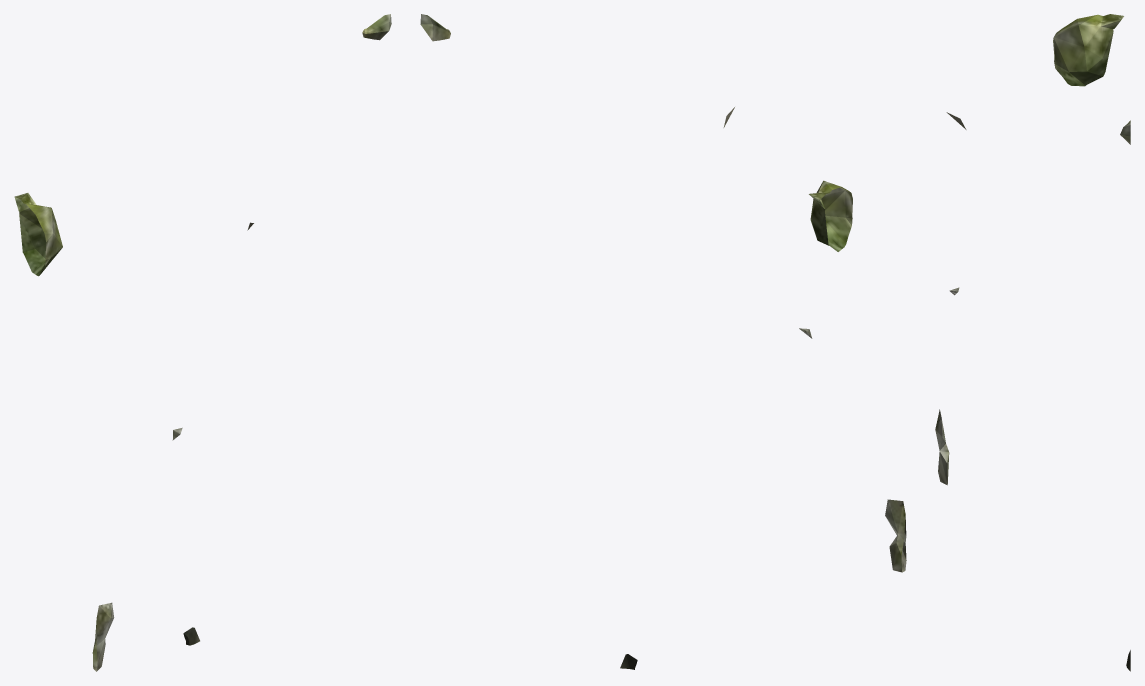
3 renders of one model, left to right at view 1: azimuth 30°, elevation 25°; view 2: azimuth 150°, elevation 25°; view 3: azimuth 270°, elevation 25°, orthographic. The views are drawn at different scales.
Size of the model in its own units: 1.98 by 2.89 by 0.7859.
1 material, 1 textured.
